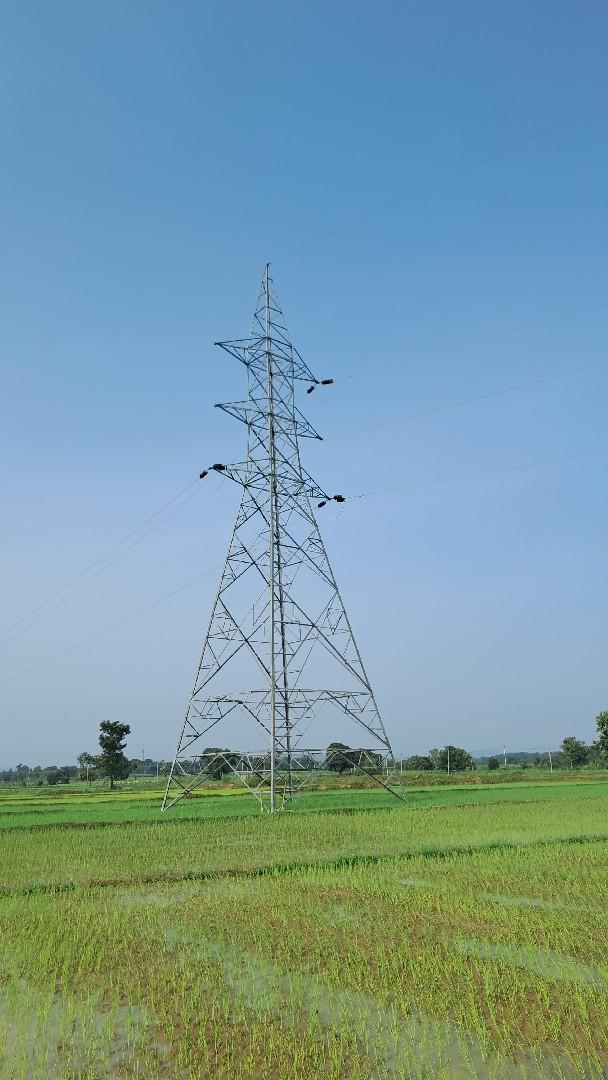GSM Antenna: (165, 258, 405, 767)
